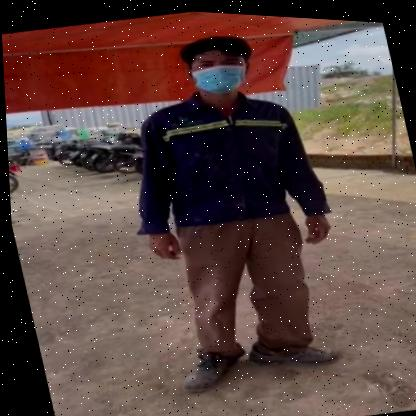person: (97, 12, 371, 410)
